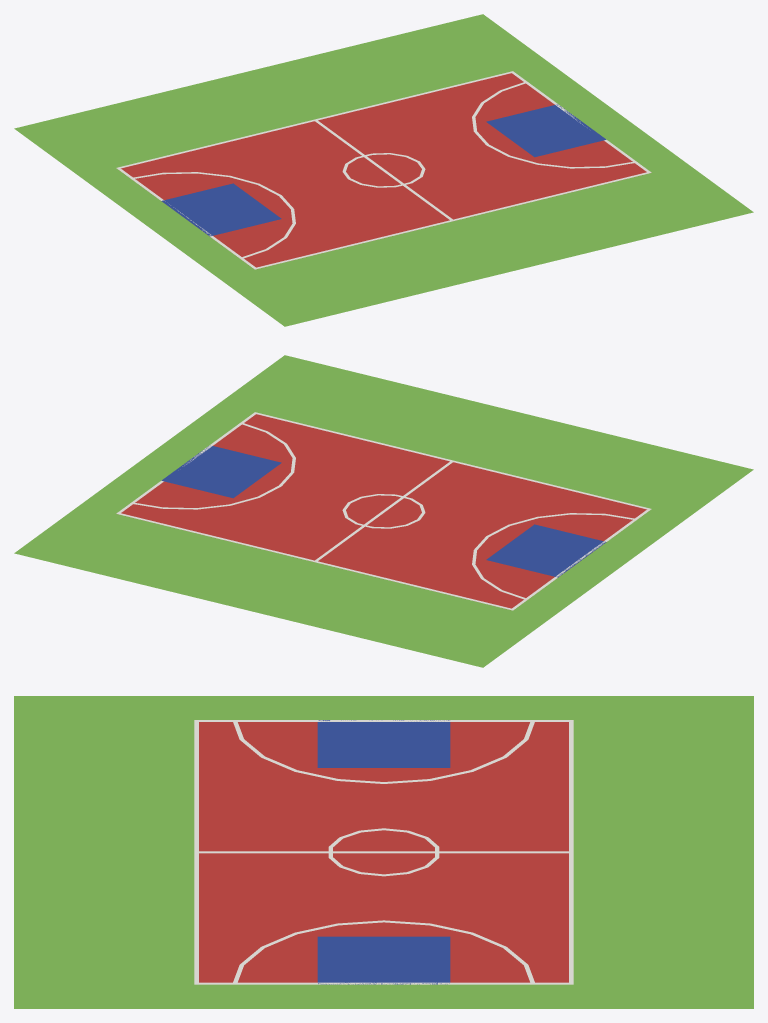
Rendered from L_Court.fbx.
3 views of the same model, one above another, from view 1: azimuth 30°, elevation 25°; view 2: azimuth 150°, elevation 25°; view 3: azimuth 270°, elevation 25° (orthographic). The views are drawn at different scales.
Visible parts, largest first — view 1: L_Court; view 2: L_Court; view 3: L_Court.
Boxes of the visible parts, x1,y1,x2,y2 form: L_Court: [14, 14, 753, 326]; L_Court: [14, 355, 753, 667]; L_Court: [14, 696, 753, 1008].
Size of the model in its own units: 7.8 by 0.003 by 7.8.
